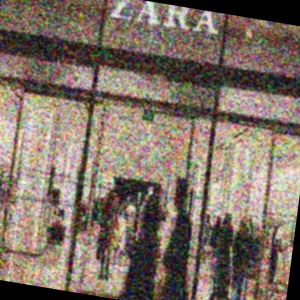zara: (173, 5, 276, 25)
